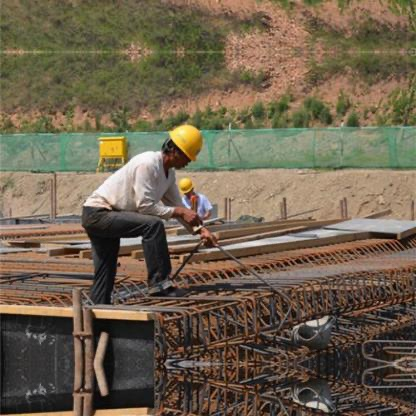Safety Helmet: (159, 121, 209, 183), (175, 174, 196, 200)
